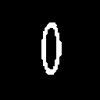chain: (42, 23, 60, 73)
